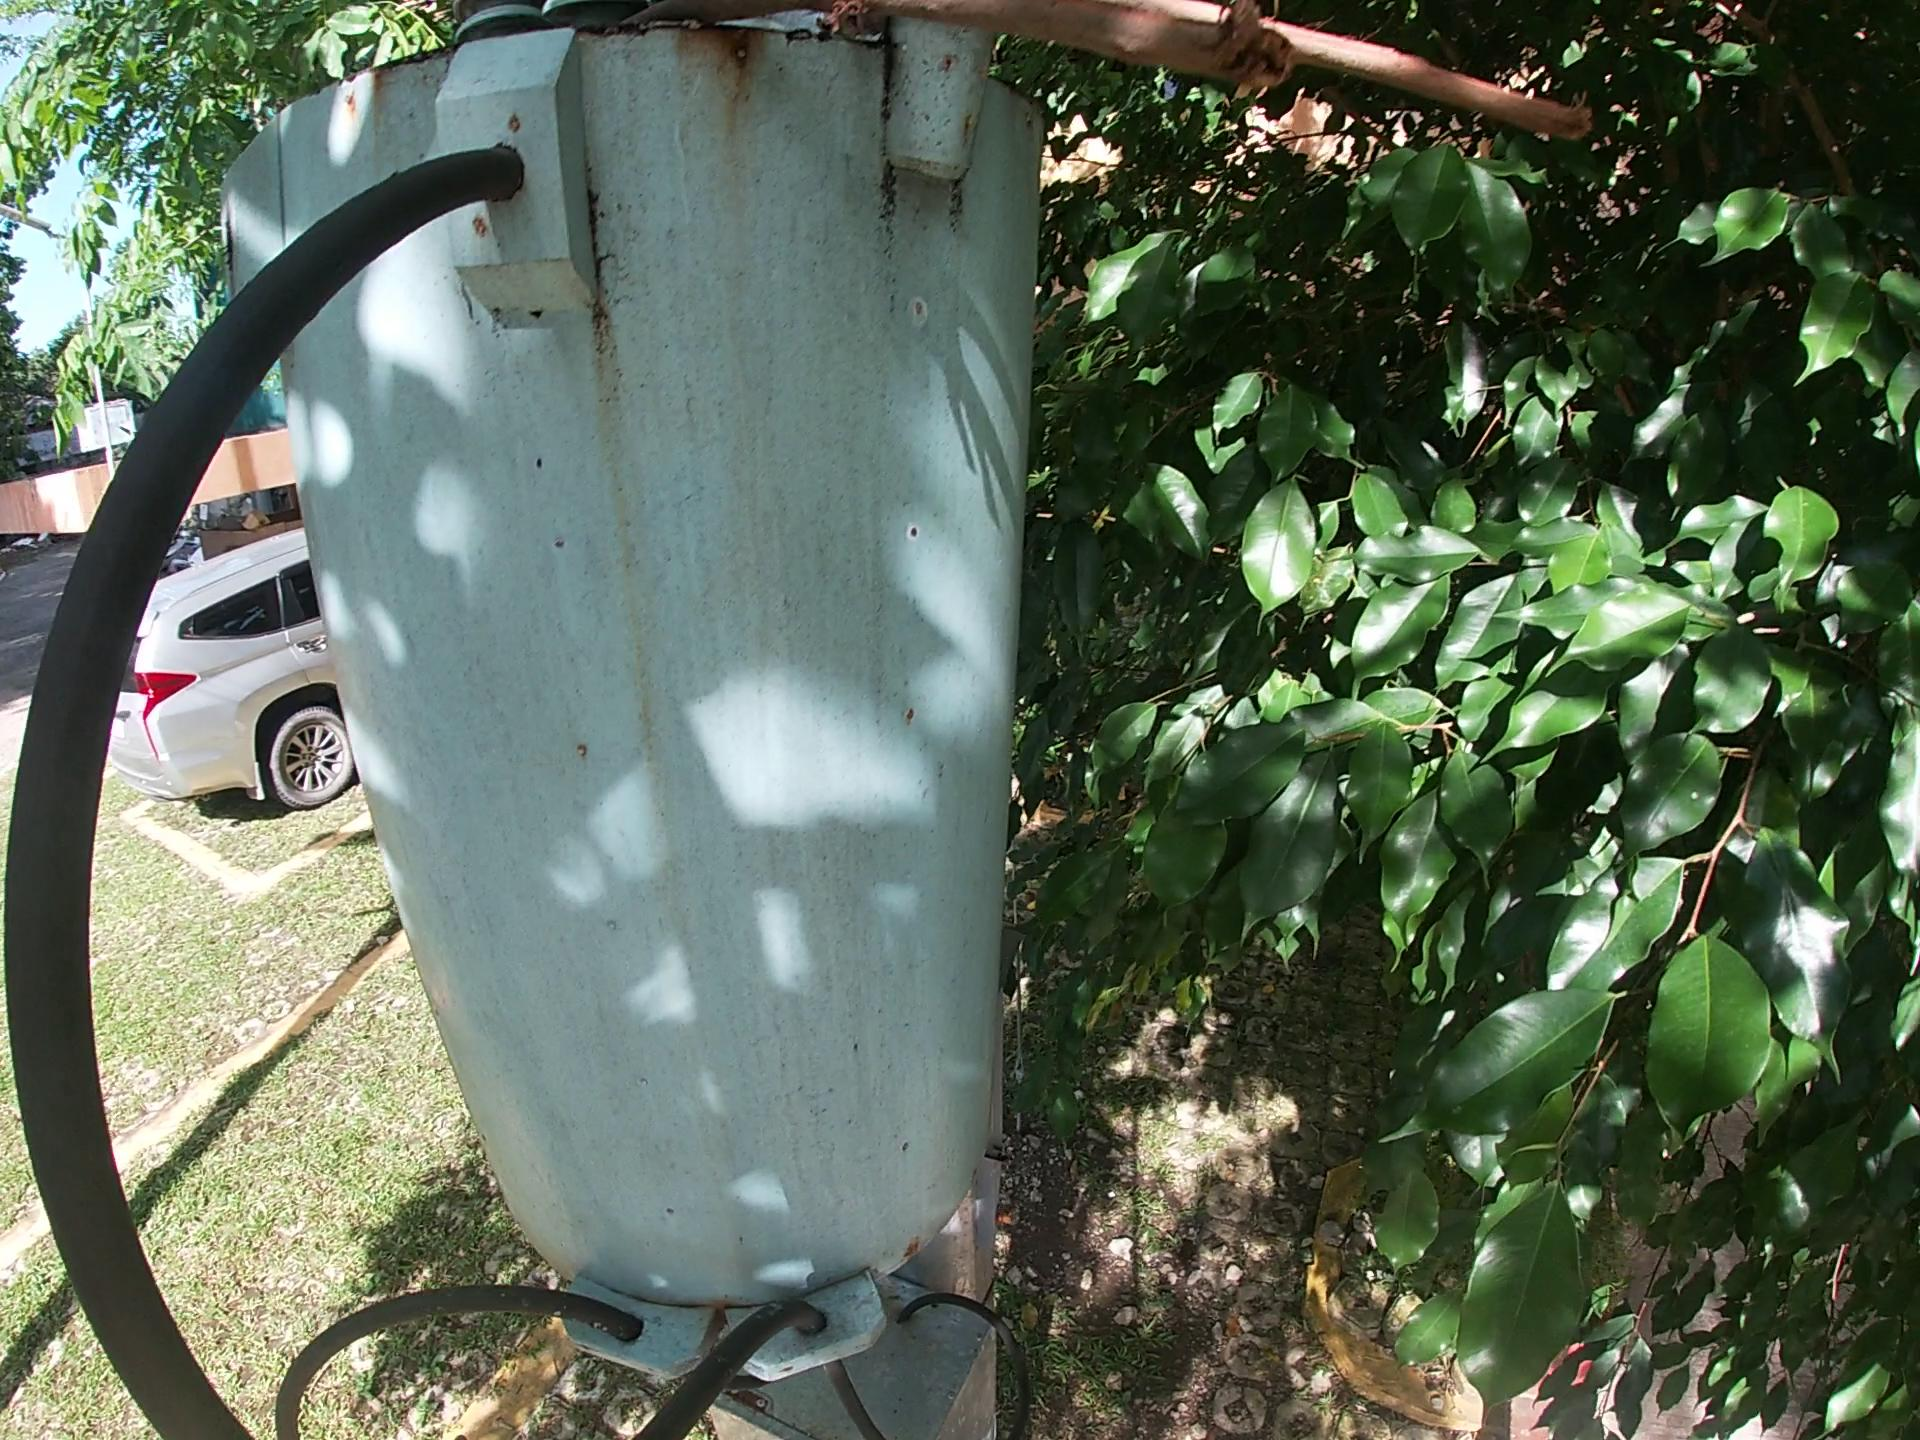tree branch: (795, 2, 1603, 139)
